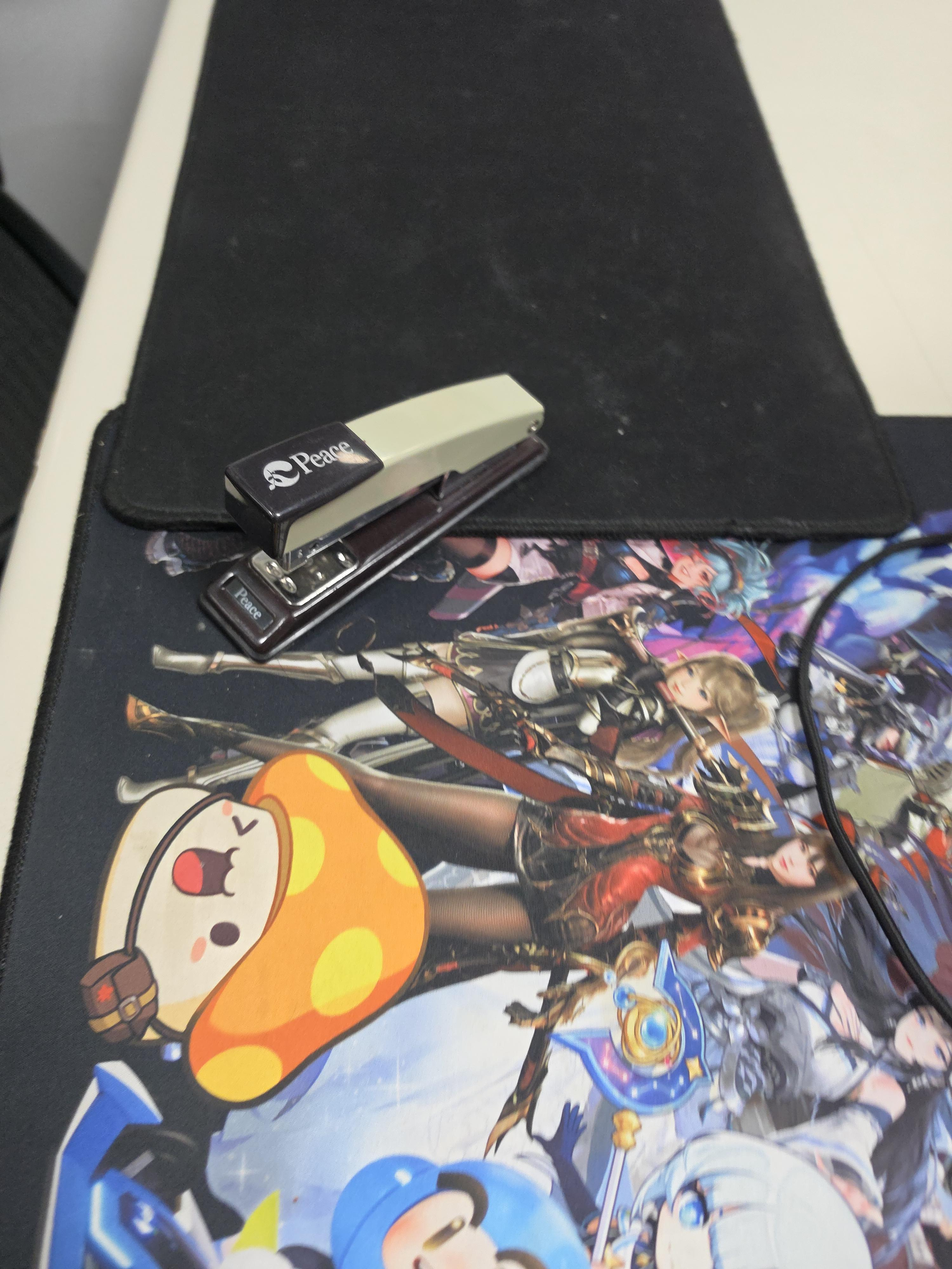stapler: (198, 373, 550, 662)
